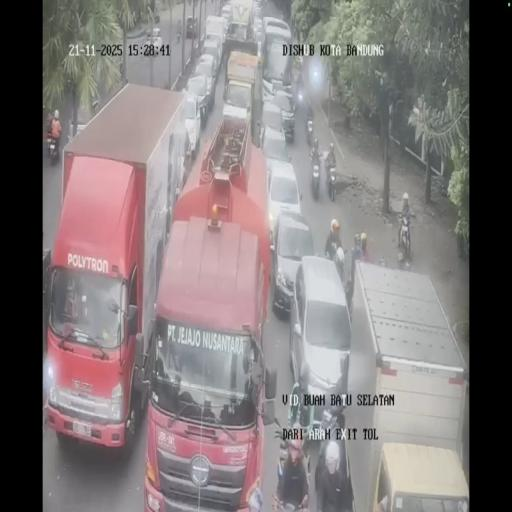3: (44, 82, 192, 454), (340, 259, 467, 512), (261, 19, 293, 83), (68, 104, 94, 142)
car: (270, 208, 315, 318), (266, 85, 297, 143), (184, 74, 210, 130), (200, 39, 221, 85), (143, 29, 163, 56), (252, 16, 264, 48), (220, 2, 232, 28), (251, 0, 263, 21), (185, 15, 195, 33)
truck: (396, 213, 412, 263), (308, 148, 321, 198), (326, 160, 337, 201), (49, 132, 59, 164)
